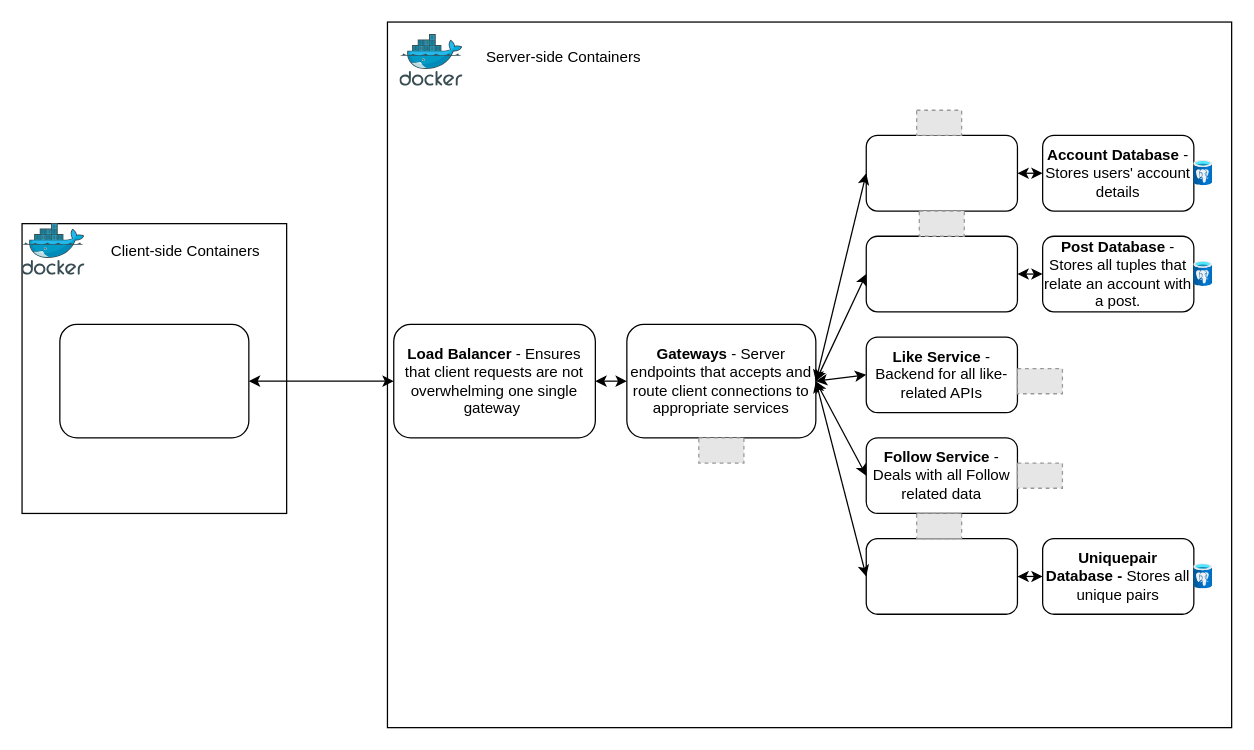
The diagram is 1254 pixels wide and 750 high, and some of its shapes have lost their labels. Grey dashed boxes stand in for pictures. Each missing label, with the centre of its shape:
"Account Service - Backend for APIs related to account creation" belongs at point 941,172.
"Loadgen Node - Responsible for generating the workload OR Emulates the client" belongs at point 154,380.
"Post Service - Backend for all post-related APIs" belongs at point 941,273.
"Uniquepair Service - Backend for all uniquepair-related APIs" belongs at point 941,575.
